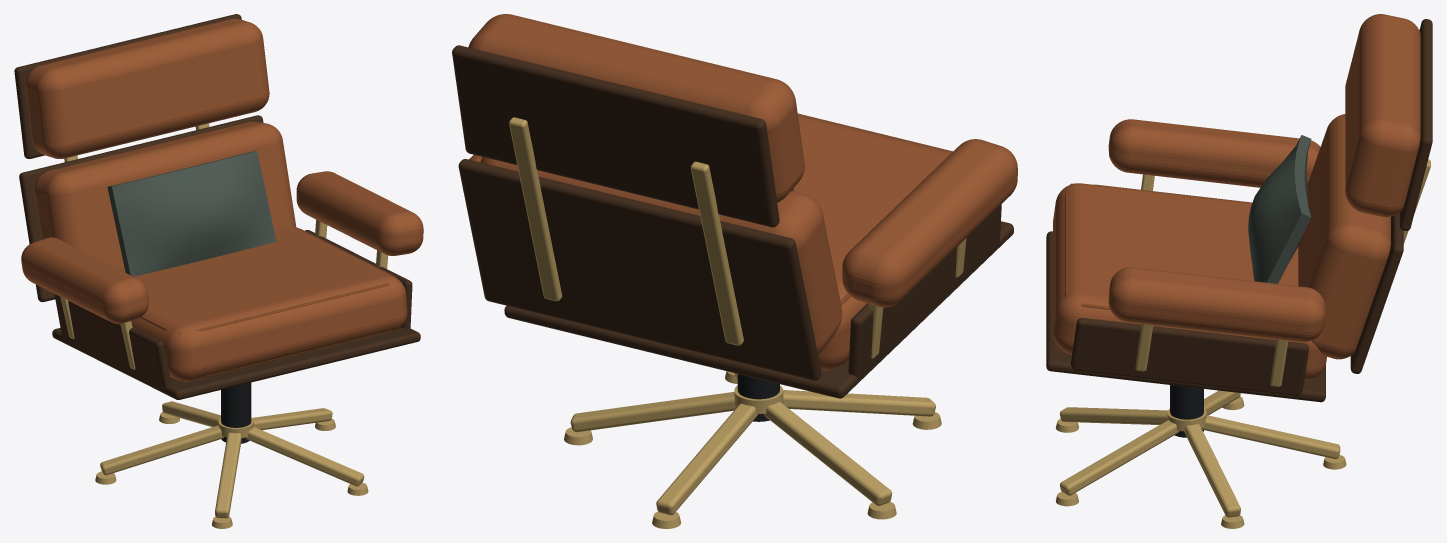
File: atelier-molded-cognac.glb
3 views of the same model, side by side, from view 1: azimuth 30°, elevation 25°; view 2: azimuth 150°, elevation 25°; view 3: azimuth 270°, elevation 25° (orthographic). The views are drawn at different scales.
Bounding box in the file's own units: 0.8695 × 0.934 × 0.823.
